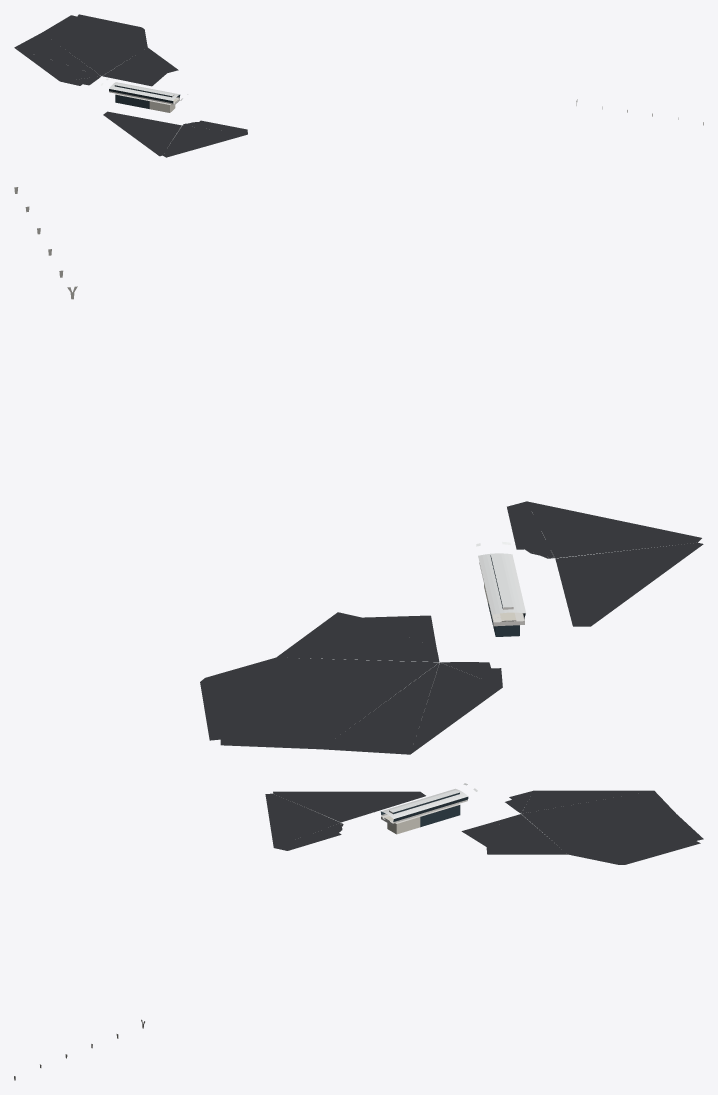
The model's file is br_t127_davies_2_lod2.gltf.
3 views of the same model, one above another, from view 1: azimuth 30°, elevation 25°; view 2: azimuth 150°, elevation 25°; view 3: azimuth 270°, elevation 25° (orthographic). The views are drawn at different scales.
Parts seen in each view (by area): view 1: br_t127_davies_2_lod2; view 2: br_t127_davies_2_lod2; view 3: br_t127_davies_2_lod2.
Boxes of the visible parts, x1,y1,x2,y2 form: br_t127_davies_2_lod2: [14, 14, 703, 157]; br_t127_davies_2_lod2: [14, 187, 703, 754]; br_t127_davies_2_lod2: [14, 783, 703, 1080].
Bounding box in the file's own units: 679 × 27.98 × 699.
